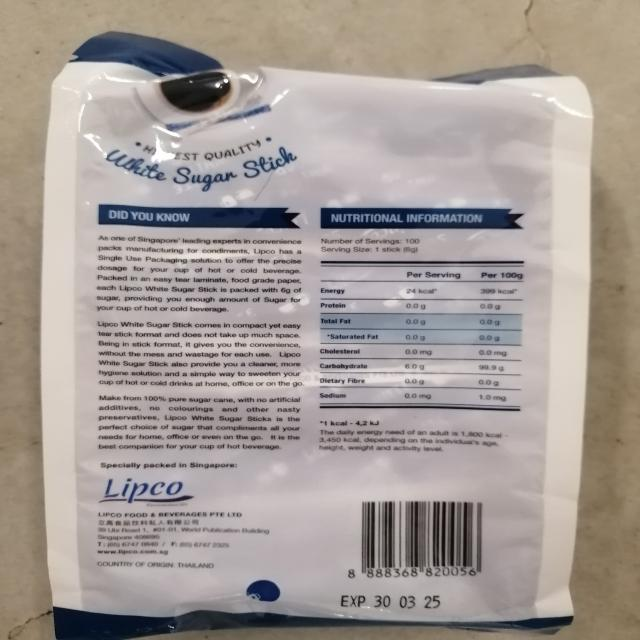object_name: (56, 70, 567, 618)
